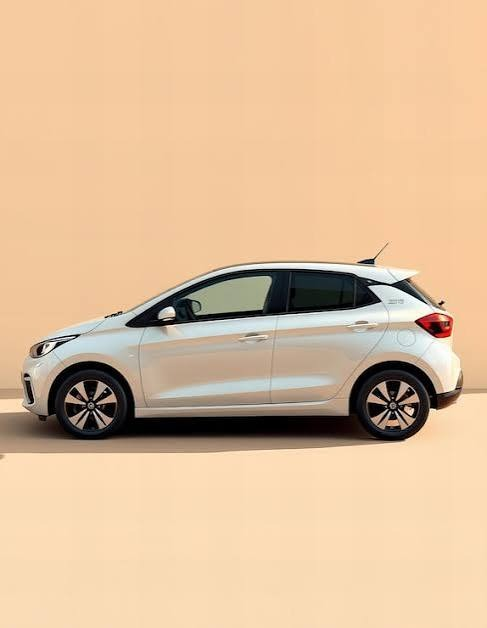car: (36, 247, 459, 444)
